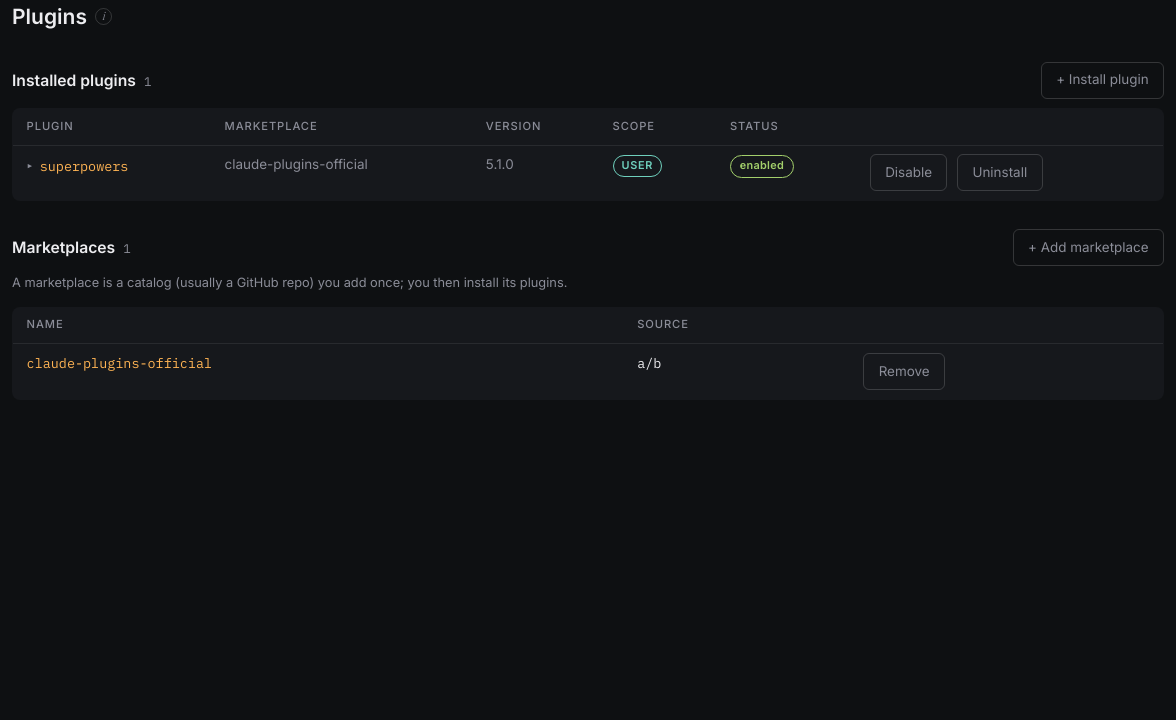
Test case: Plugins view › expands a plugin row to reveal install details
Expected: the text "Install path" is not shown
Click the button "▸ superpowers". click: coordinates (78, 166)
box: 27,156 -> 128,177
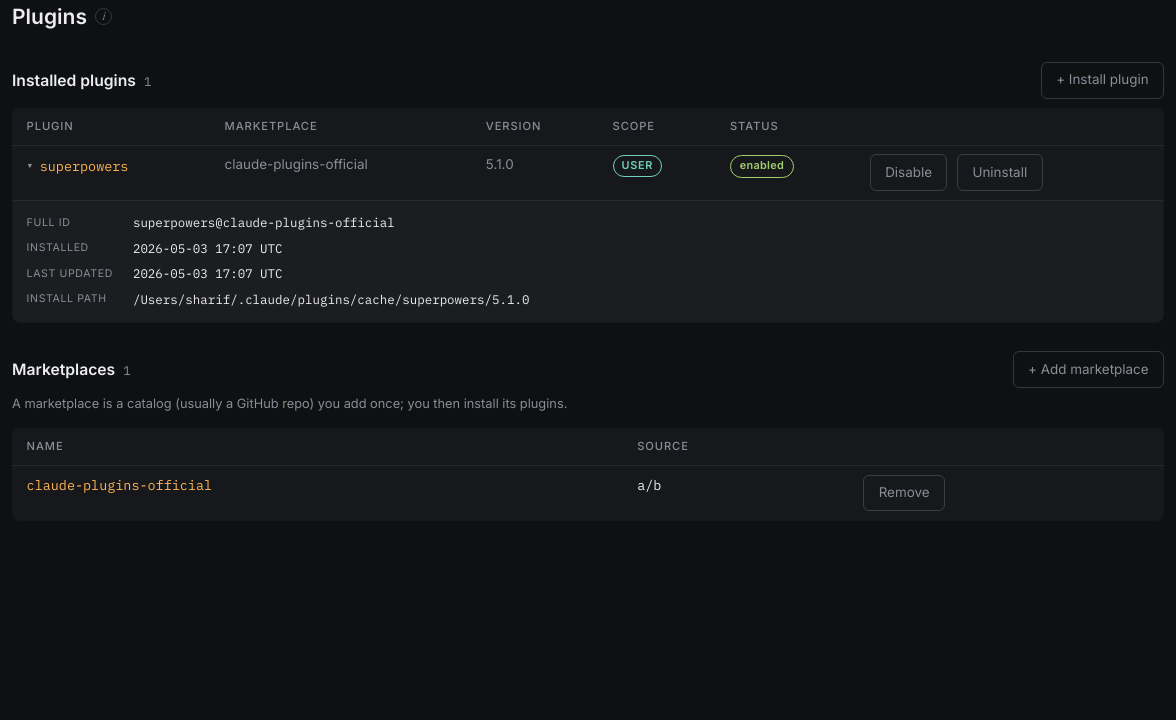
Result: the text "Install path" is shown at 27,291 -> 113,308
Result: the text "/Users/sharif/.claude/plugins/cache/superpowers/5.1.0" is shown at 133,291 -> 529,307
Result: the 1st text "2026-05-03 17:07 UTC" is shown at 133,240 -> 282,256
